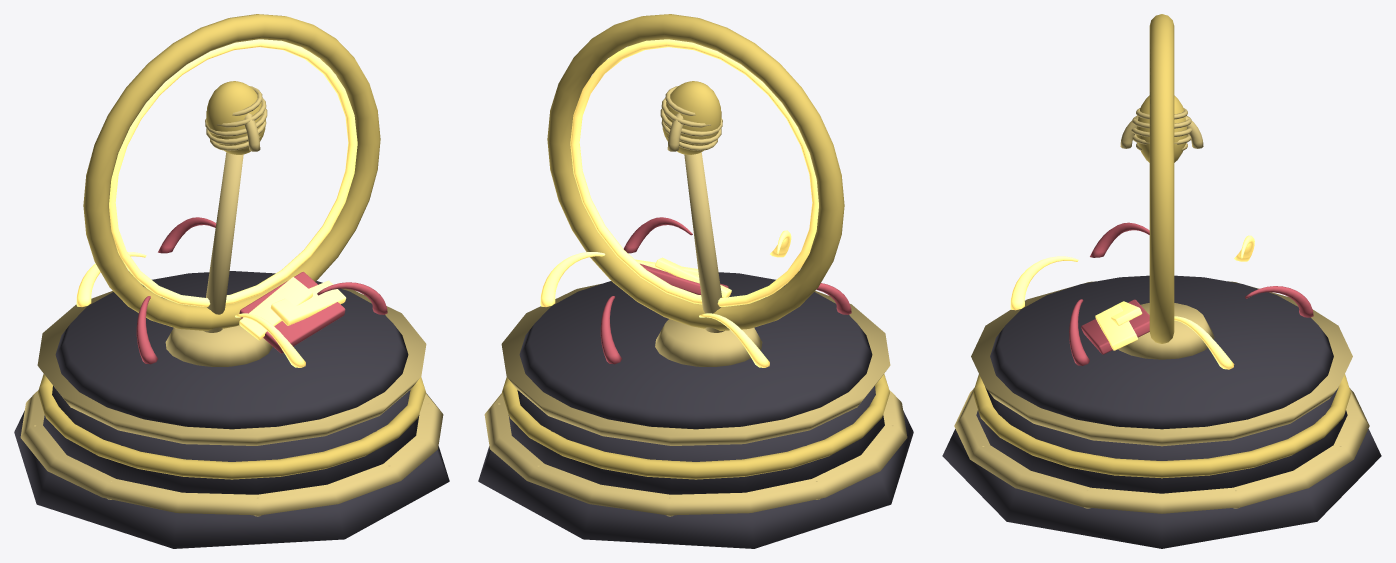
3 views of the same model, side by side, from view 1: azimuth 30°, elevation 25°; view 2: azimuth 150°, elevation 25°; view 3: azimuth 270°, elevation 25° (orthographic). The views are drawn at different scales.
Visible parts, largest first — view 1: SM-001_The_Sonnet_Man; view 2: SM-001_The_Sonnet_Man; view 3: SM-001_The_Sonnet_Man.
Boxes of the visible parts, x1=… form: SM-001_The_Sonnet_Man: x1=14, y1=14, x2=449, y2=548; SM-001_The_Sonnet_Man: x1=478, y1=14, x2=913, y2=548; SM-001_The_Sonnet_Man: x1=942, y1=14, x2=1381, y2=548.
Size of the model in its own units: 0.92 by 0.986 by 0.92.
